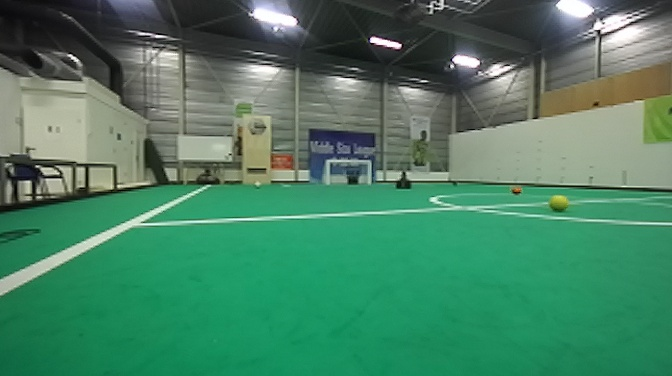ball: (548, 192, 568, 210), (509, 184, 522, 196)
goal: (321, 156, 374, 187)
robot: (394, 165, 414, 190), (345, 165, 362, 185)
